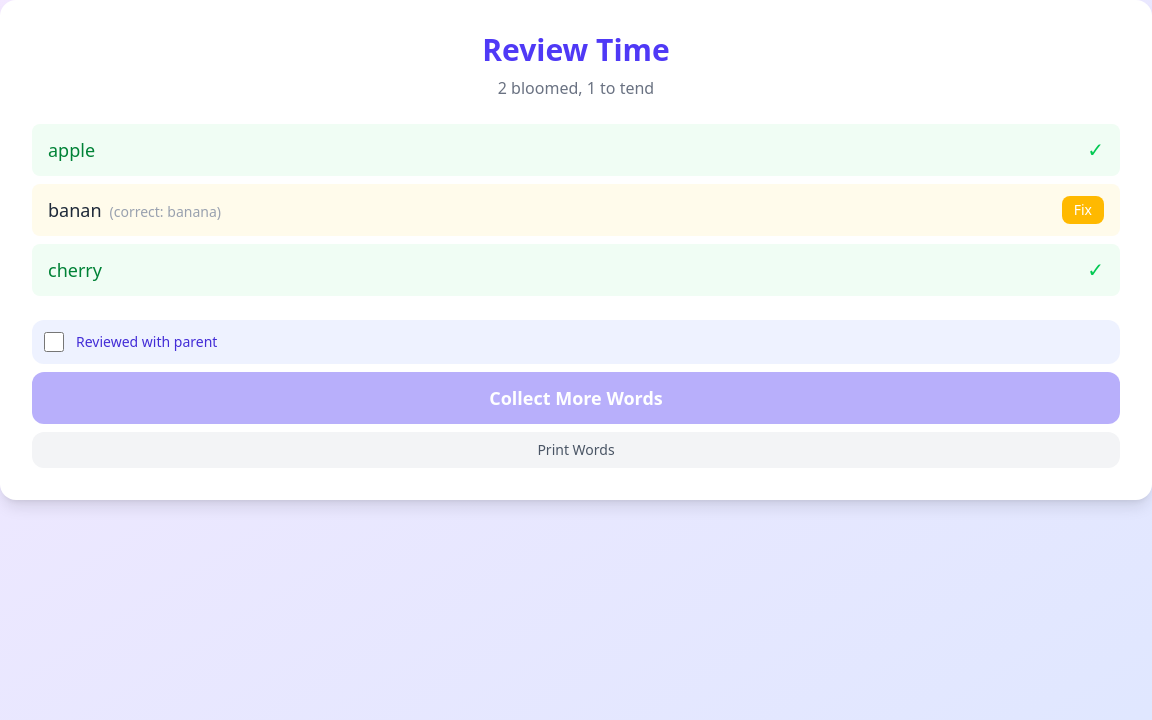
Complete (Review Mode) › shows profile modal when clicking Collect More Words without a profile
Click the checkbox with test id "parent-reviewed-checkbox" at {"x": 54, "y": 342}, box [44,332,64,352]
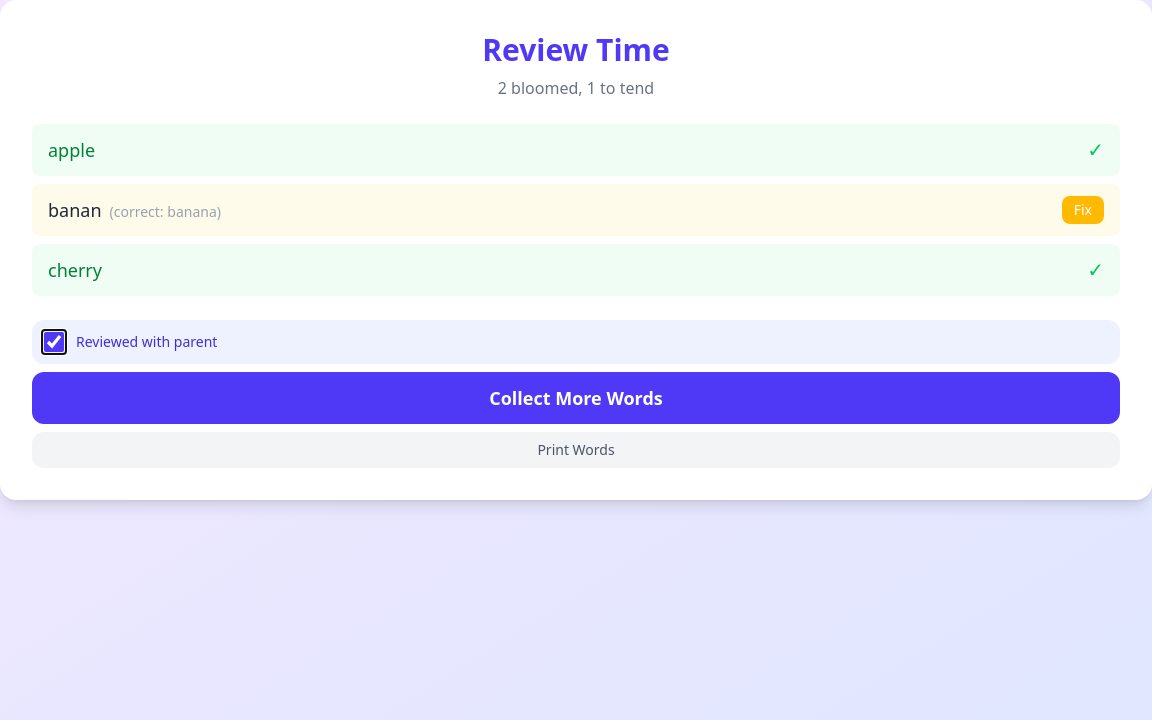
Click the button "Collect More Words" at {"x": 576, "y": 398}, box [32,372,1120,424]
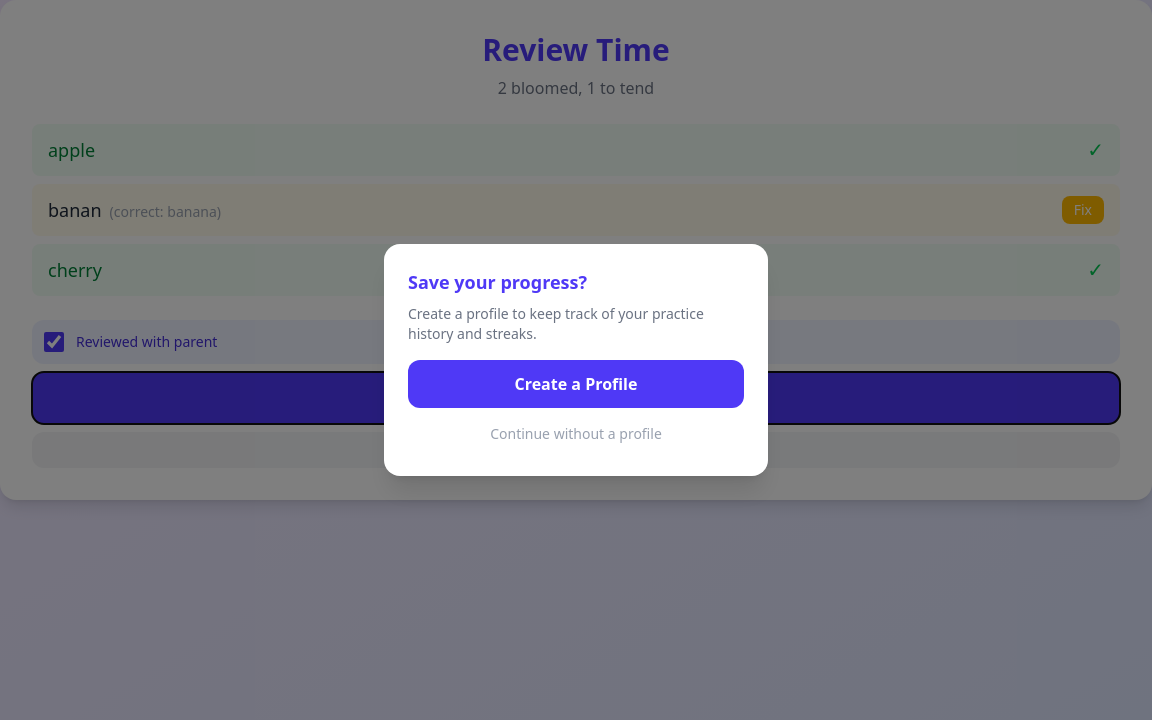
Check: the element with test id "profile-modal" is shown
Check: the heading "Save your progress?" is shown, box [408,270,587,294]
